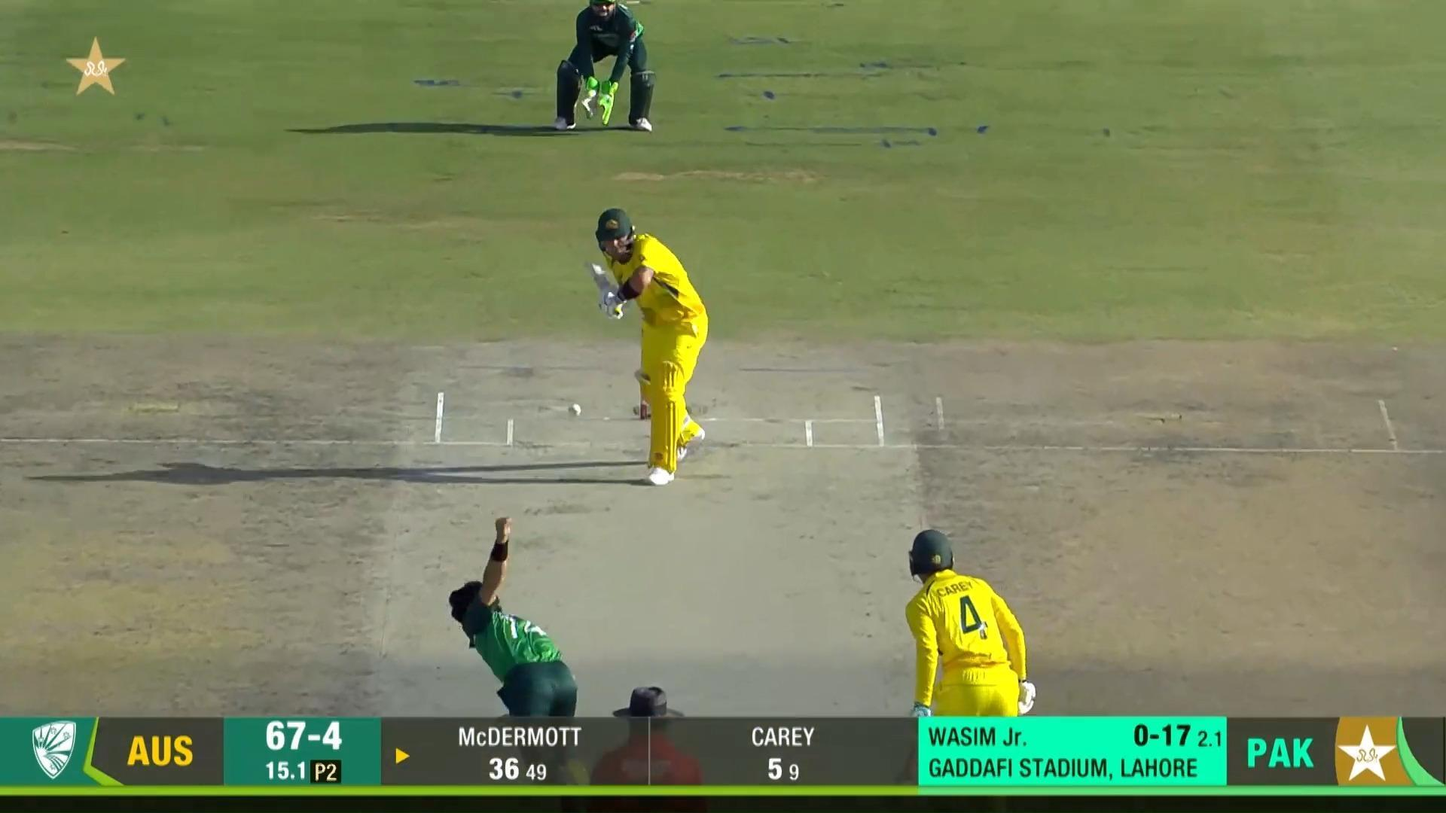BM 1: (586, 207, 710, 487)
BO: (447, 514, 580, 716)
